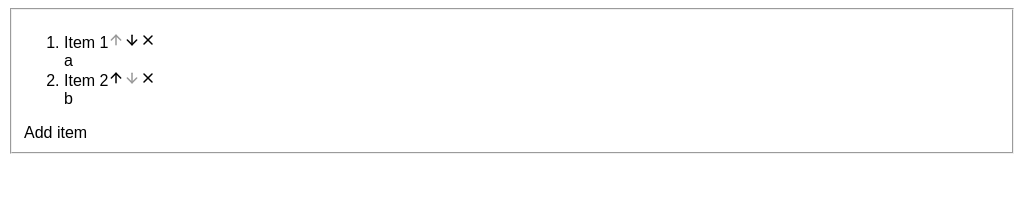
Scenario: list control › adds an item made from the item default, up to the maximum
Click the button "Add item".
click(56, 133)  # box [24,124,87,142]
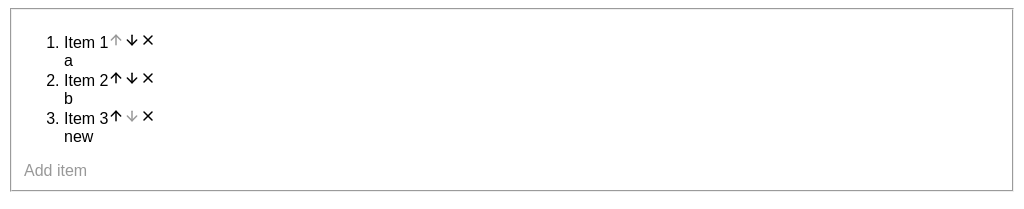
Now the button "Add item" is disabled, box [24,162,87,180]
